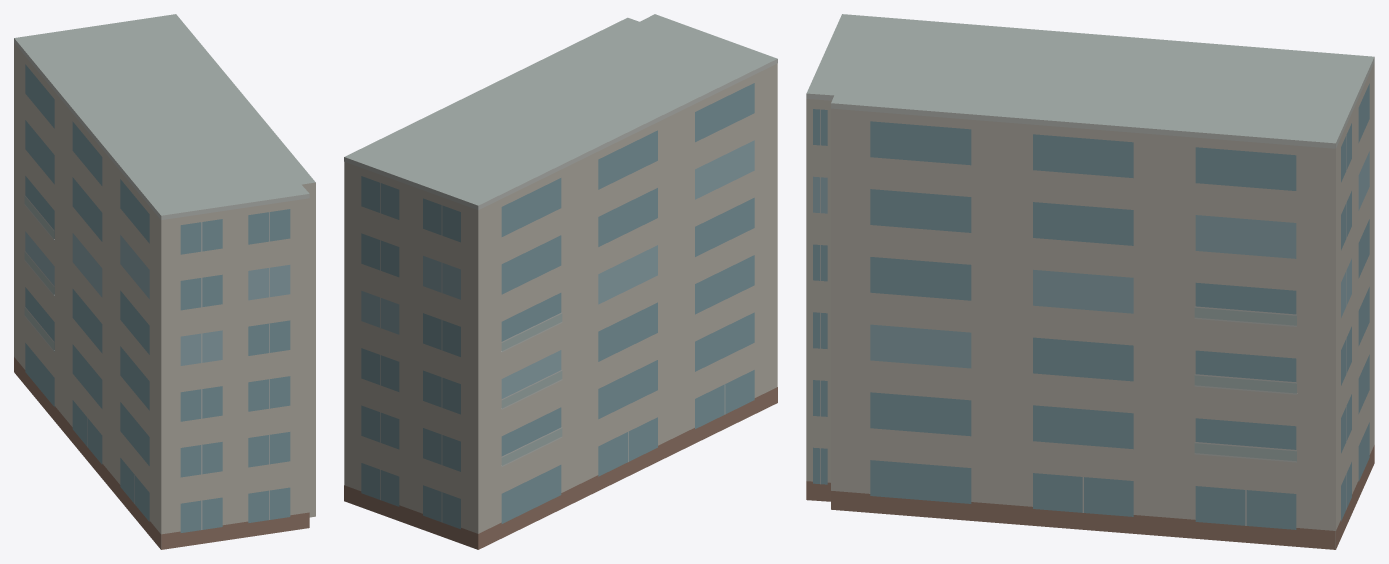
The model's file is survey-upis-32700446.glb.
The picture shows the model from 3 angles, left to right: view 1: azimuth 30°, elevation 25°; view 2: azimuth 150°, elevation 25°; view 3: azimuth 270°, elevation 25°; orthographic projection. The views are drawn at different scales.
Parts seen in each view (by area): view 1: survey-upis-32700446.tmp; view 2: survey-upis-32700446.tmp; view 3: survey-upis-32700446.tmp.
Boxes of the visible parts, box(x1,y1,x2,y2) form: survey-upis-32700446.tmp: box(14, 14, 315, 549); survey-upis-32700446.tmp: box(344, 14, 777, 549); survey-upis-32700446.tmp: box(806, 14, 1374, 549).
Size of the model in its own units: 12.5 by 18.3 by 23.19.
